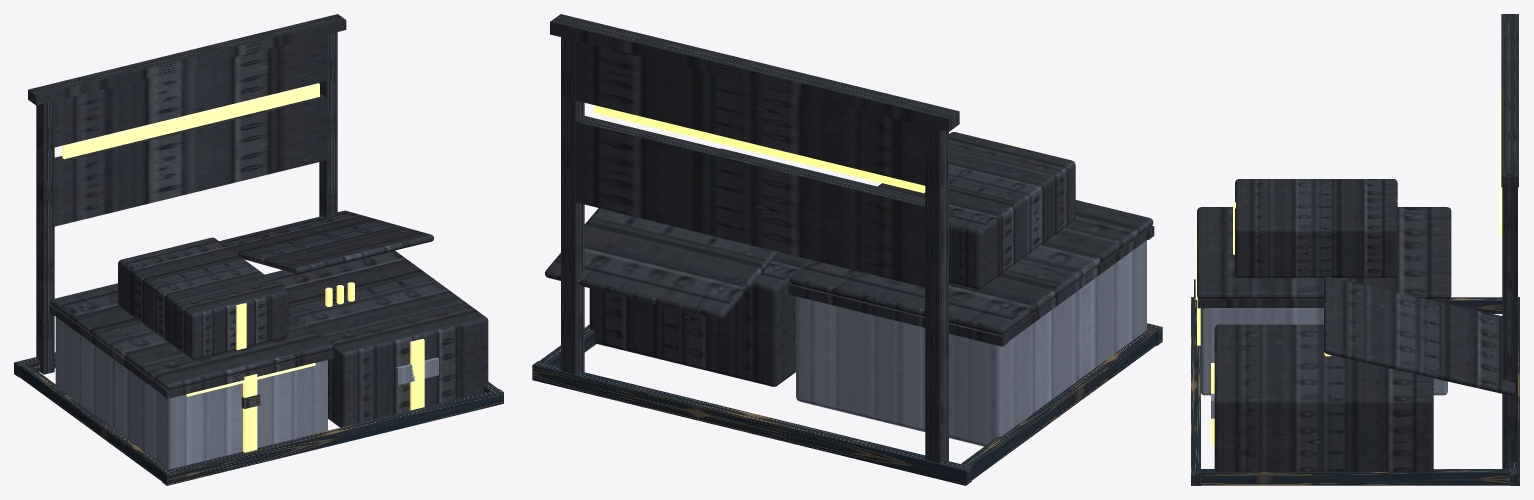
Rendered from armory_ammocrate.glb.
3 views of the same model, side by side, from view 1: azimuth 30°, elevation 25°; view 2: azimuth 150°, elevation 25°; view 3: azimuth 270°, elevation 25° (orthographic). The views are drawn at different scales.
Parts seen in each view (by area): view 1: sight_shell, crate1, crate0, crate2, lid0, lid1, shelltoe0, sightglow, shelltoes0, shellrim0, tape1, shellrims0 (+2 smaller); view 2: sight_shell, crate0, crate2, crate1, lid0, lid1, shelltoe2, shelltoes0, sightglow, shellrim2, shellrims0; view 3: crate1, crate2, lid1, lid0, sight_shell, shelltoes2, crate0, shelltoe0, shellrims2, shelltoes0, shelltoe2, sightglow.
Part boxes in pixels (left/top/right/bottom): sight_shell: left=28, top=14, right=346, bottom=374; crate1: left=265, top=250, right=488, bottom=427; crate0: left=55, top=317, right=327, bottom=468; crate2: left=118, top=237, right=288, bottom=359; lid0: left=50, top=283, right=332, bottom=389; lid1: left=219, top=210, right=433, bottom=273; shelltoe0: left=162, top=389, right=503, bottom=485; sightglow: left=62, top=83, right=319, bottom=159; shelltoes0: left=19, top=363, right=169, bottom=481; shellrim0: left=163, top=350, right=333, bottom=398; tape1: left=410, top=339, right=424, bottom=410; shellrims0: left=54, top=307, right=165, bottom=394; sight_shell: left=550, top=14, right=959, bottom=463; crate0: left=796, top=240, right=1146, bottom=446; crate2: left=877, top=132, right=1075, bottom=289; crate1: left=589, top=148, right=876, bottom=386; lid0: left=789, top=200, right=1153, bottom=334; lid1: left=545, top=208, right=779, bottom=319; shelltoe2: left=532, top=361, right=971, bottom=485; shelltoes0: left=961, top=327, right=1157, bottom=480; sightglow: left=594, top=105, right=925, bottom=193; shellrim2: left=788, top=283, right=1008, bottom=346; shellrims0: left=1007, top=228, right=1148, bottom=340; crate1: left=1214, top=324, right=1433, bottom=471; crate2: left=1235, top=179, right=1397, bottom=277; lid1: left=1324, top=277, right=1515, bottom=395; lid0: left=1197, top=207, right=1451, bottom=299; sight_shell: left=1501, top=14, right=1518, bottom=468; shelltoes2: left=1198, top=469, right=1512, bottom=485; crate0: left=1200, top=308, right=1447, bottom=395; shelltoe0: left=1191, top=297, right=1200, bottom=485; shellrims2: left=1204, top=299, right=1443, bottom=307; shelltoes0: left=1450, top=297, right=1502, bottom=313; shelltoe2: left=1510, top=297, right=1519, bottom=485; sightglow: left=1499, top=89, right=1502, bottom=236.
Bounding box in the file's own units: 2.13 × 1.7 × 1.67.
Materials: 8 (6 with a texture image).
